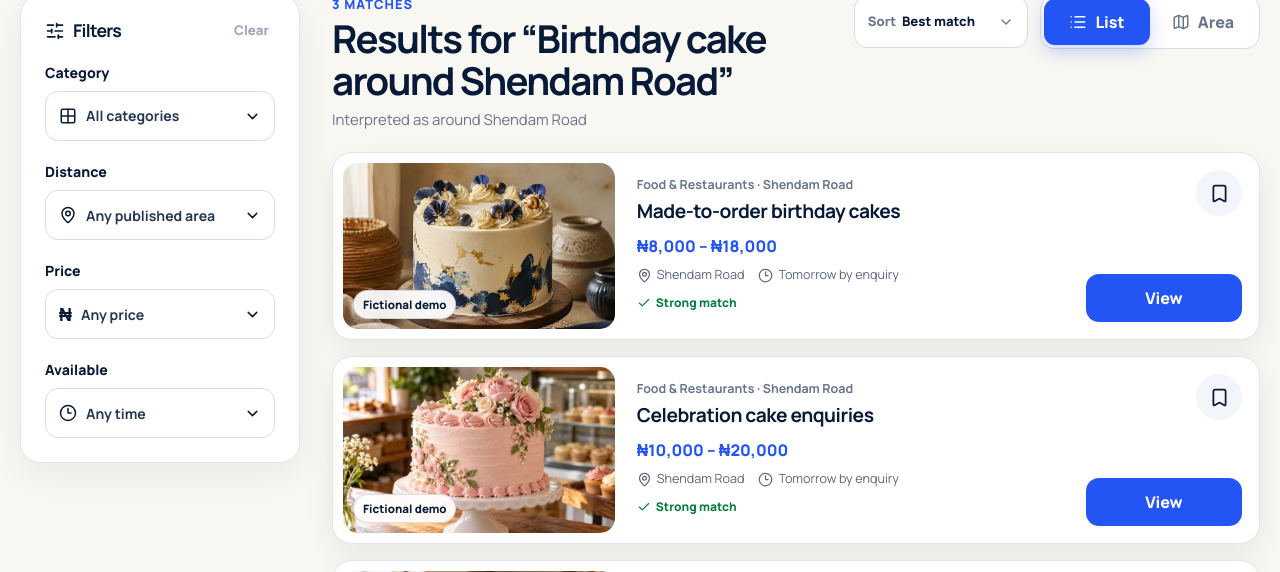
Test case: SearchResultsExperience › supports local save feedback and a transparent ranking disclosure
Click the button named "Save listing for this view" in the row of "Made-to-order birthday cakes" at coordinates (1219, 193), box [1196,170,1242,216]
(page scrolled)
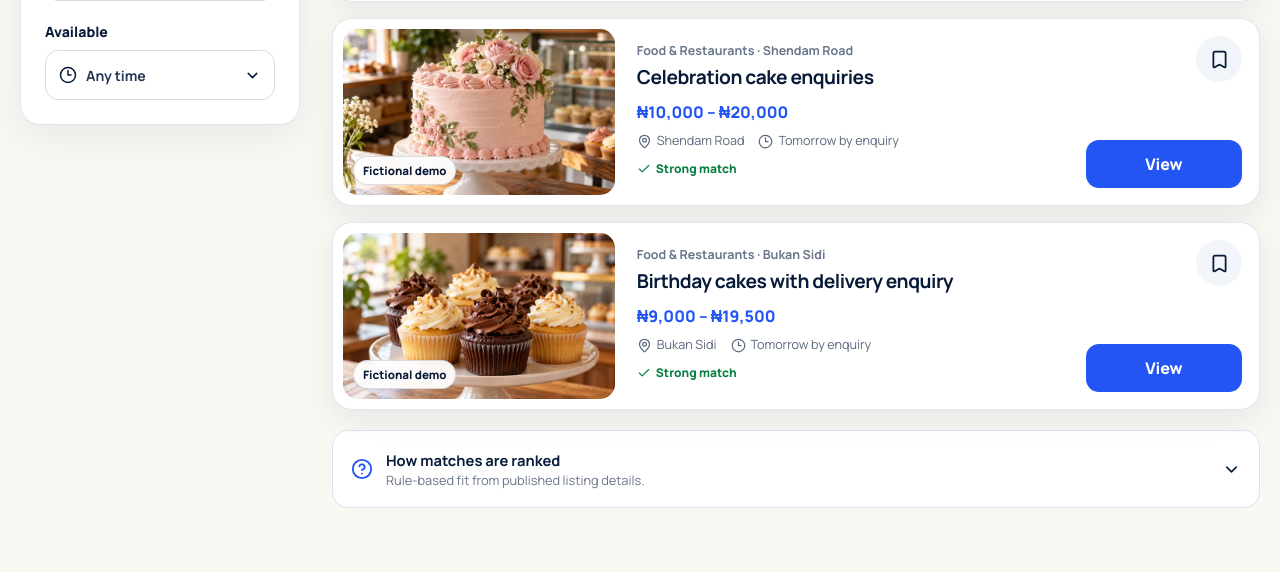
Click the button "How matches are ranked" at coordinates (473, 460), box [333,431,1259,507]
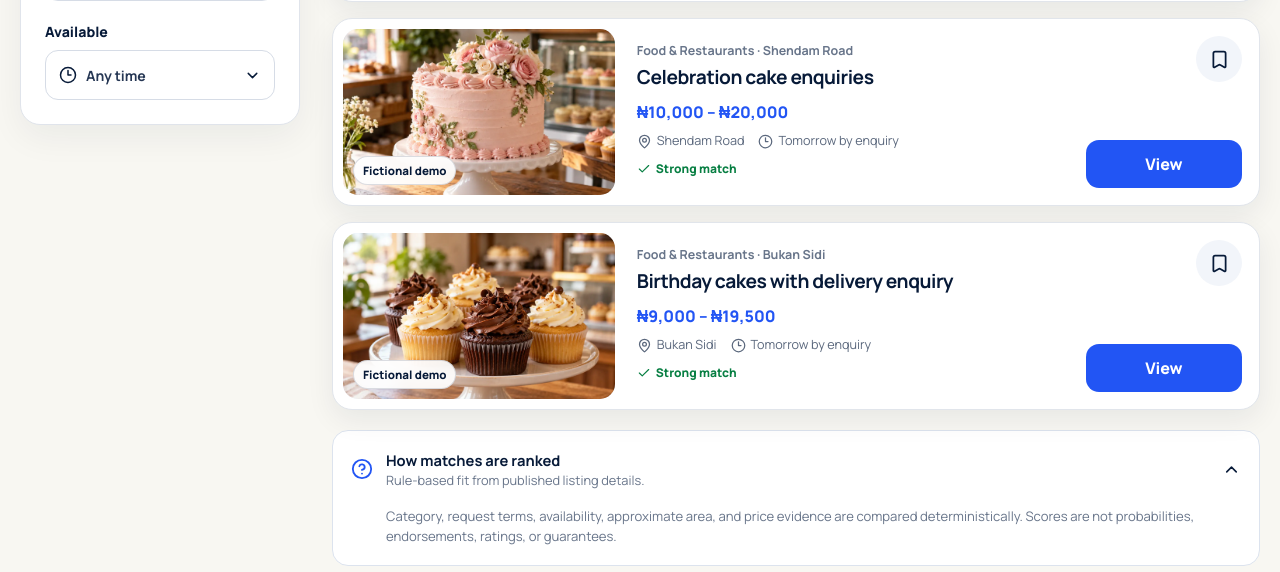
expect the text "not probabilities, endorsements" is shown: met, box [386,507,1194,545]
